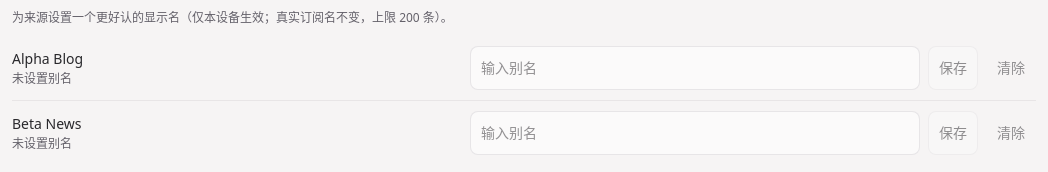
Scenario: SourceAliasSettings UI › 订阅列表逐行显示真实名 + 别名输入 + 保存/清除
This screenshot has width=1048, height=172.
Expected: the text "Alpha Blog" is shown, [12,48,83,68]
Expected: the text "Beta News" is shown, [12,114,82,132]
限定在 Alpha 行内操作（每行都有同名按钮，全局查询会有歧义）
In the field named "Alpha Blog 的别名": x=695, y=68 [470,46,920,90], type "阿尔法"
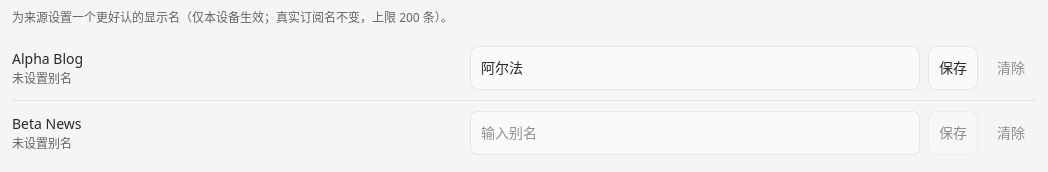
Click the button "保存" in the row of "Alpha Blog": x=953, y=68 [928,46,978,90]
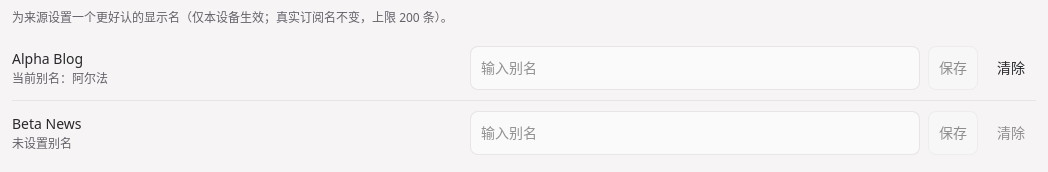
Expected: the list item "Beta News" shows "未设置别名", [12,134,72,152]
Now the text "当前别名：阿尔法" is shown, box [12,70,108,86]
清除 → 恢复真实名
Click the button "清除" in the row of "Alpha Blog": x=1011, y=68 [986,46,1036,90]
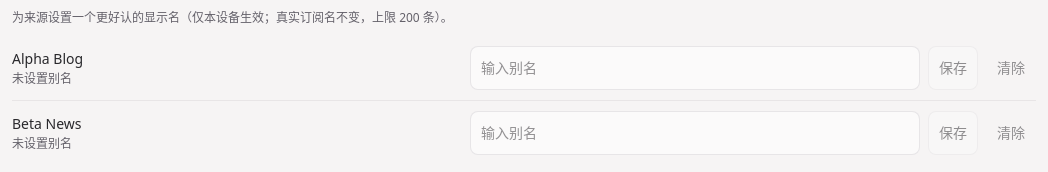
Expected: the text "Alpha Blog" is shown, [12,48,83,68]
Now the text "未设置别名" below "Alpha Blog" is shown, box [12,70,72,86]
